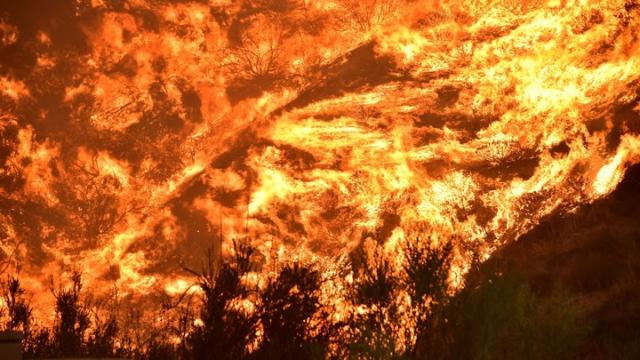fire: (2, 2, 636, 356)
